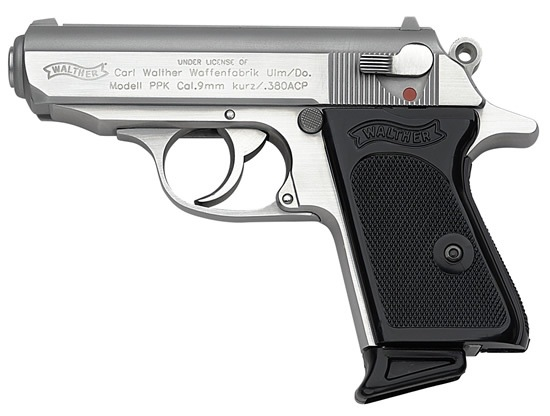gun: (4, 11, 547, 410)
